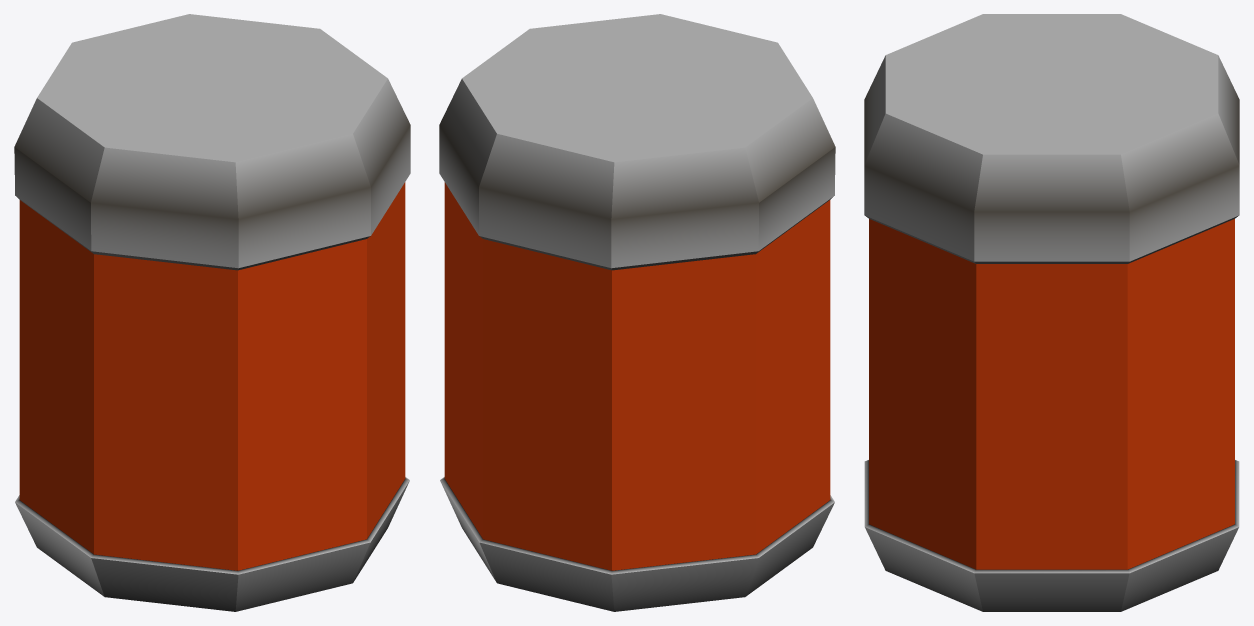
The model's file is waterjug.fbx.
3 renders of one model, left to right at view 1: azimuth 30°, elevation 25°; view 2: azimuth 150°, elevation 25°; view 3: azimuth 270°, elevation 25°, orthographic.
Parts seen in each view (by area): view 1: waterjug; view 2: waterjug; view 3: waterjug.
Boxes of the visible parts, bbox=[...] form: waterjug: bbox=[14, 14, 410, 611]; waterjug: bbox=[439, 14, 835, 611]; waterjug: bbox=[864, 14, 1239, 611].
Bounding box in the file's own units: 37.96 × 51 × 37.96.
